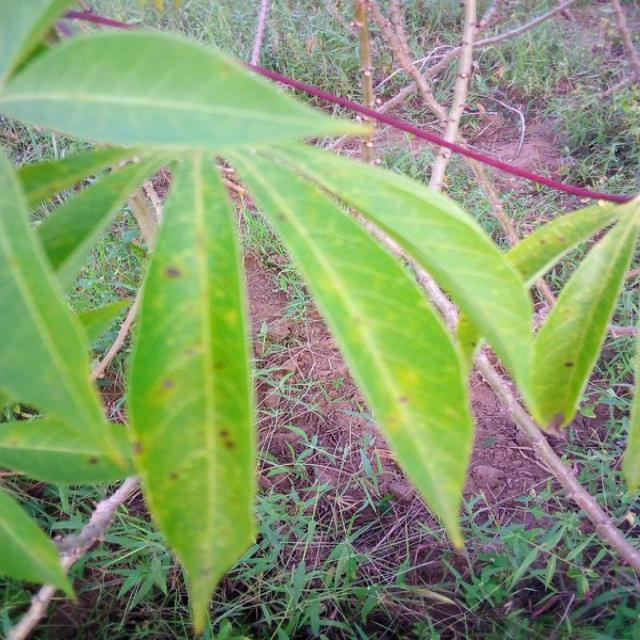cassava leaf: (0, 23, 638, 626), (222, 142, 476, 553), (126, 150, 260, 635), (0, 148, 136, 486), (524, 194, 638, 436)
